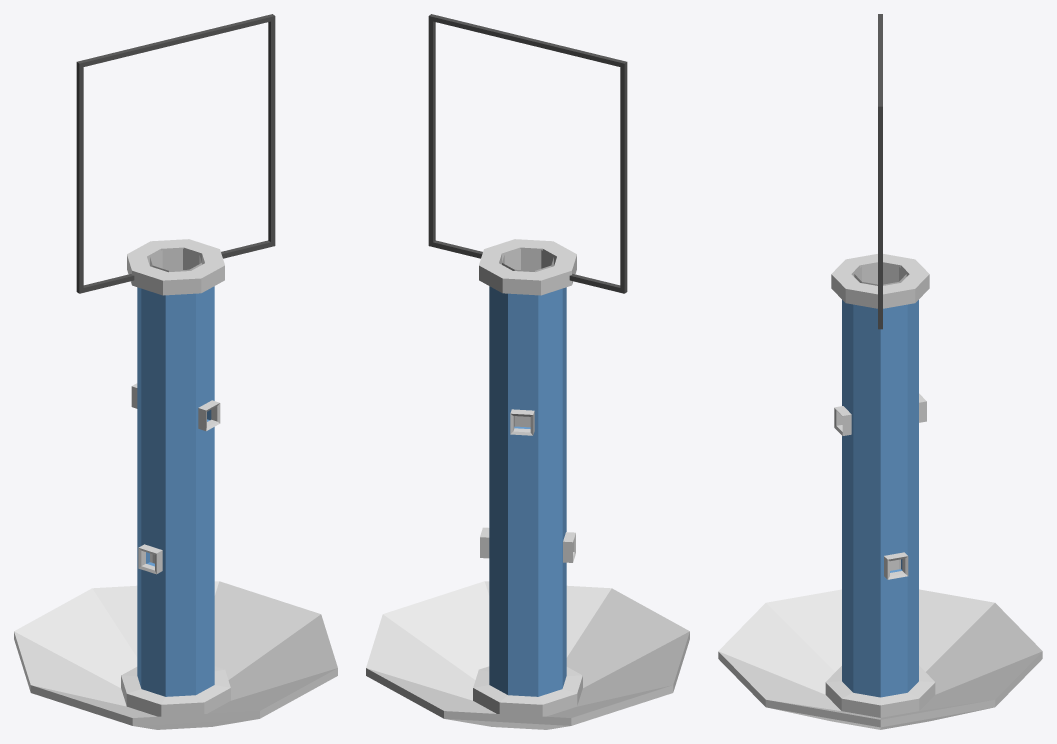
The model's file is TubeFeeder.fbx.
3 renders of one model, left to right at view 1: azimuth 30°, elevation 25°; view 2: azimuth 150°, elevation 25°; view 3: azimuth 270°, elevation 25°, orthographic. The views are drawn at different scales.
Parts seen in each view (by area): view 1: TubeFeeder; view 2: TubeFeeder; view 3: TubeFeeder.
Boxes of the visible parts, x1=… form: TubeFeeder: x1=14, y1=14, x2=337, y2=729; TubeFeeder: x1=366, y1=14, x2=689, y2=729; TubeFeeder: x1=718, y1=14, x2=1042, y2=729.
Bounding box in the file's own units: 21.02 × 45.76 × 21.02.
